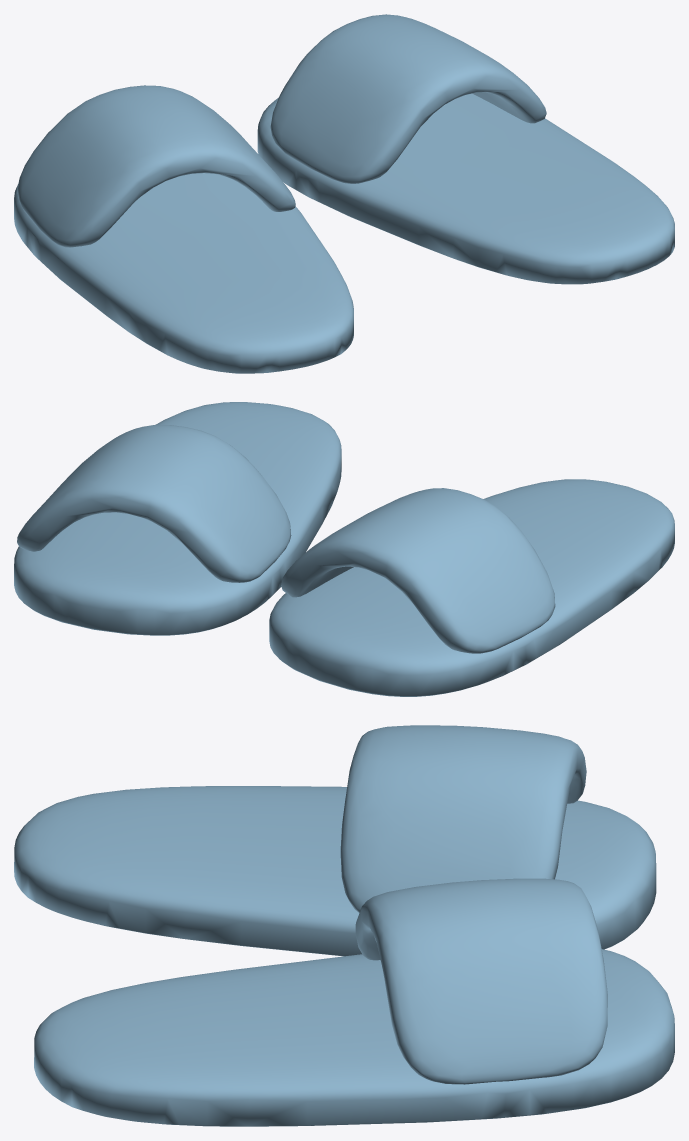
File: Pantuflas.fbx
3 views of the same model, one above another, from view 1: azimuth 30°, elevation 25°; view 2: azimuth 150°, elevation 25°; view 3: azimuth 270°, elevation 25° (orthographic). The views are drawn at different scales.
Parts seen in each view (by area): view 1: Pantufla 2, Pantufla 1; view 2: Pantufla 1, Pantufla 2; view 3: Pantufla 2, Pantufla 1.
Boxes of the visible parts, bbox=[...] form: Pantufla 2: bbox=[257, 14, 674, 284]; Pantufla 1: bbox=[14, 85, 353, 373]; Pantufla 1: bbox=[269, 479, 674, 696]; Pantufla 2: bbox=[14, 402, 341, 635]; Pantufla 2: bbox=[34, 878, 674, 1126]; Pantufla 1: bbox=[14, 725, 656, 956].
Size of the model in its own units: 5.54 by 1.34 by 4.93.
